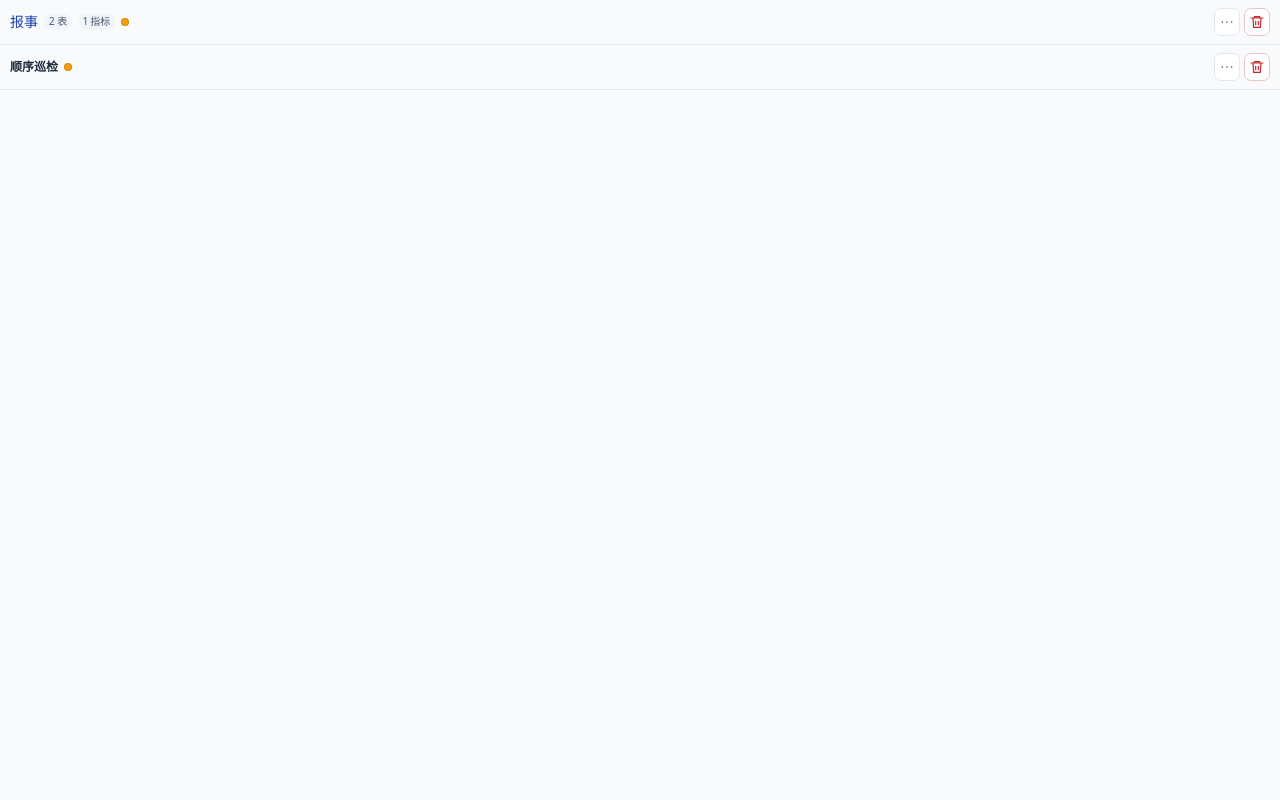
场景过滤在详情里，一次点击就能看全
The width and height of the screenshot is (1280, 800).
Click the button named "术语详情" in the row of "指标" at {"x": 1227, "y": 22}, box [1214, 8, 1240, 36]
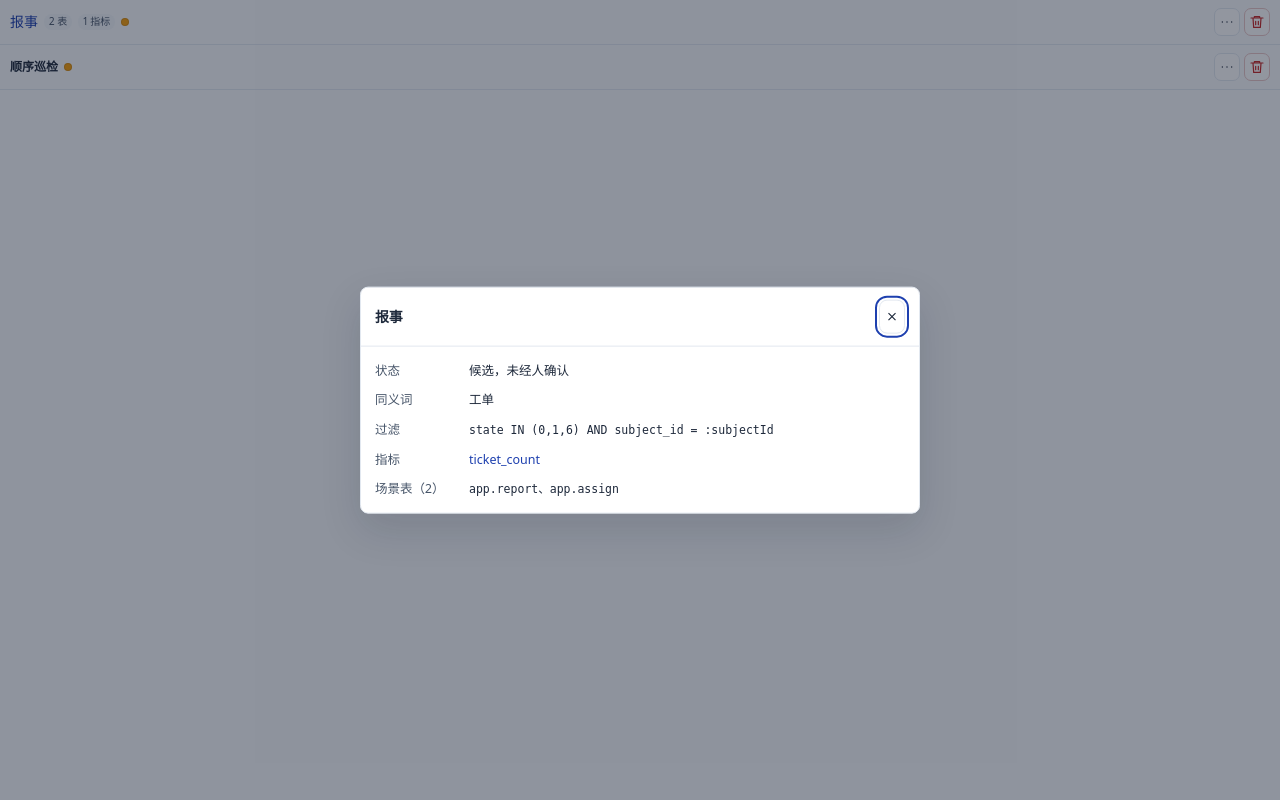
Expected: the text "state IN (0,1,6) AND subject_id = :subjectId" is shown, [469, 422, 774, 436]
